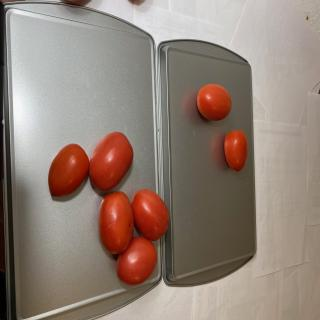Tomato: (89, 131, 133, 191), (98, 191, 134, 254), (48, 143, 89, 197), (116, 236, 158, 286), (131, 189, 170, 241), (196, 83, 232, 121), (224, 130, 248, 172)
